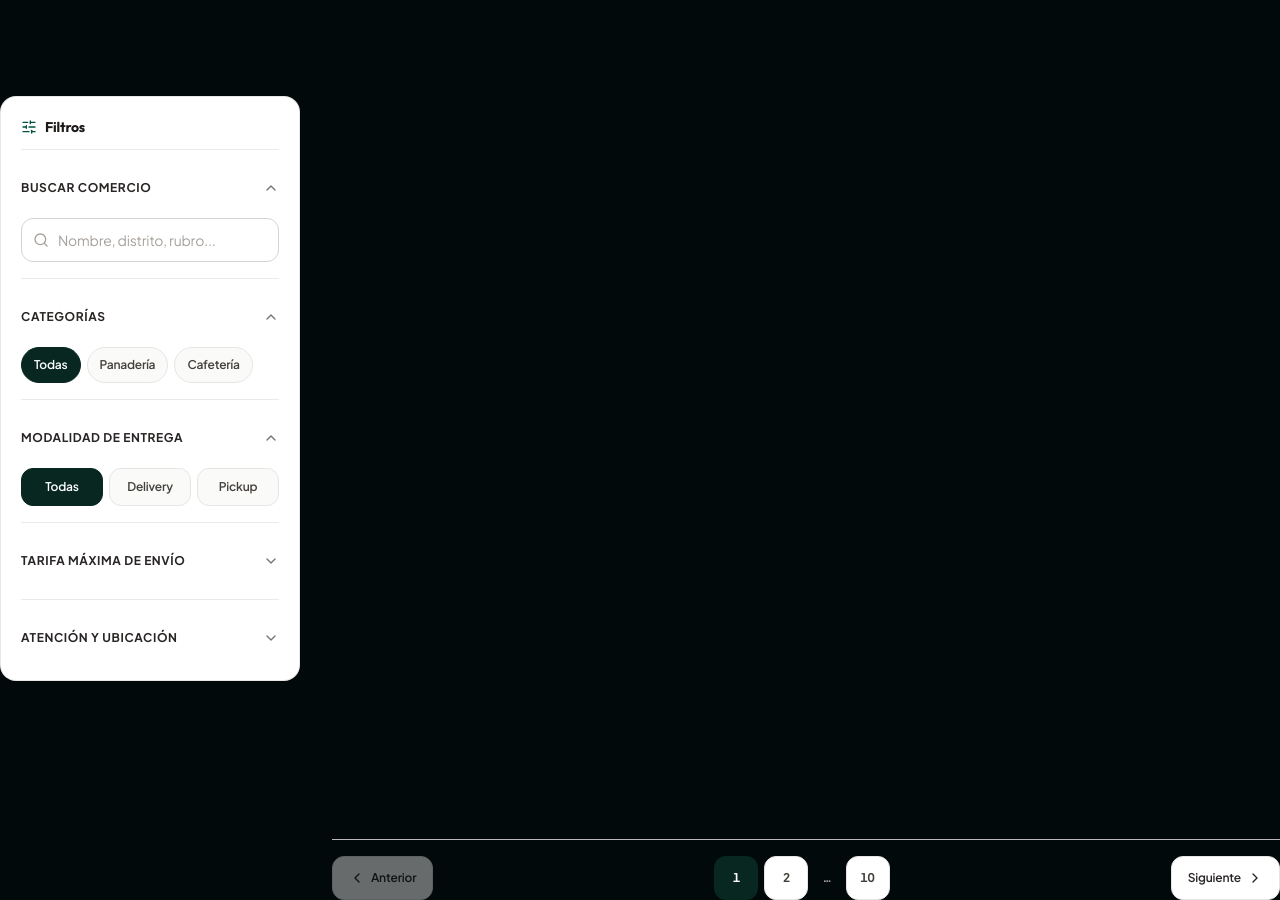
Test: StoresCatalogView Component › paginates results in batches of 9 stores with windowed page buttons
This screenshot has width=1280, height=900.
(page scrolled)
Expected: the text "Comercio 10" is not shown
Expected: the button named "Página 10" is shown, [846,856,890,899]
Click the button named "Página 2" at (786, 878), box [764,856,808,899]
(page scrolled)
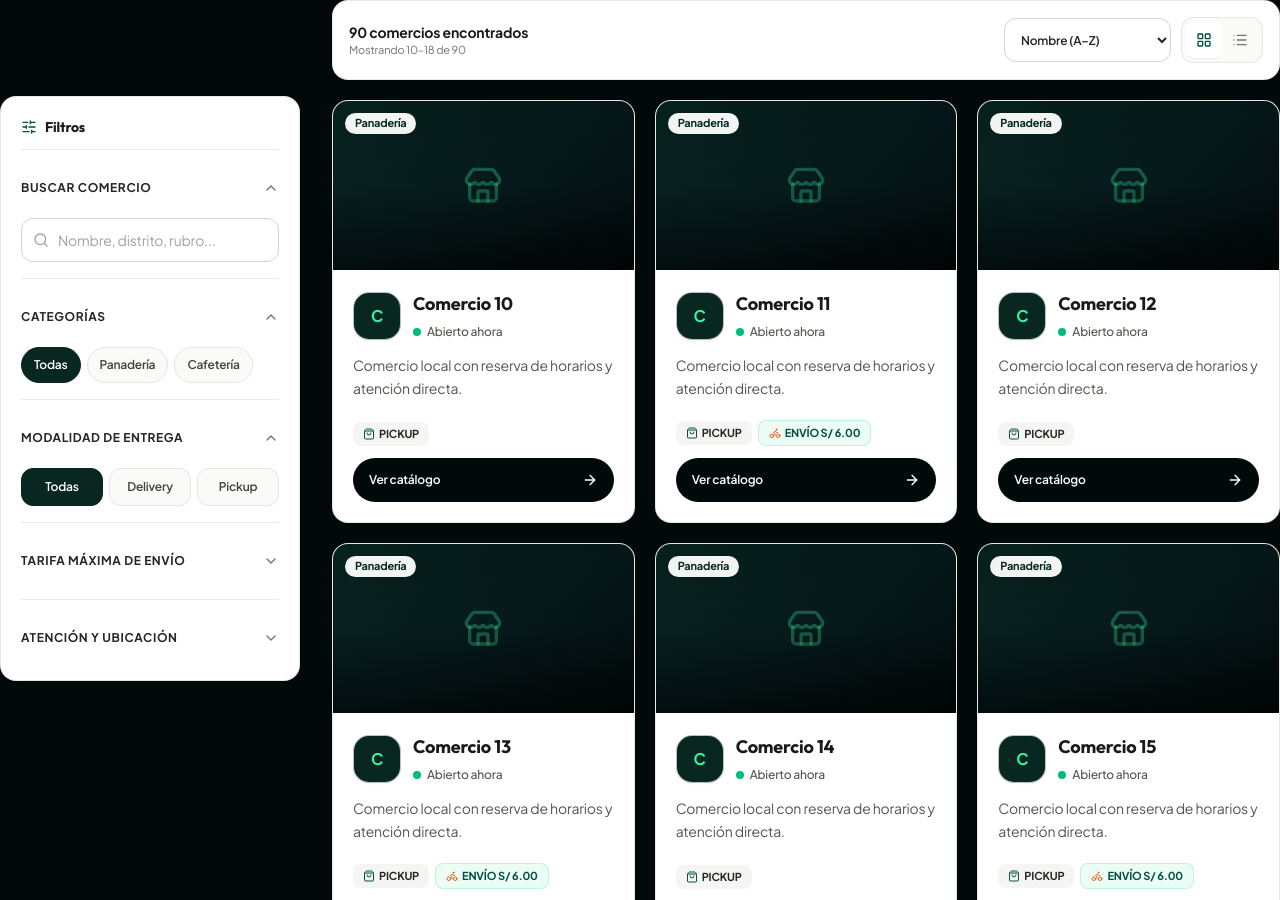
Now the text "Mostrando 10–18 de 90" is shown, box [349,43,466,56]
Now the heading "Comercio 10" is shown, box [413,292,513,315]
